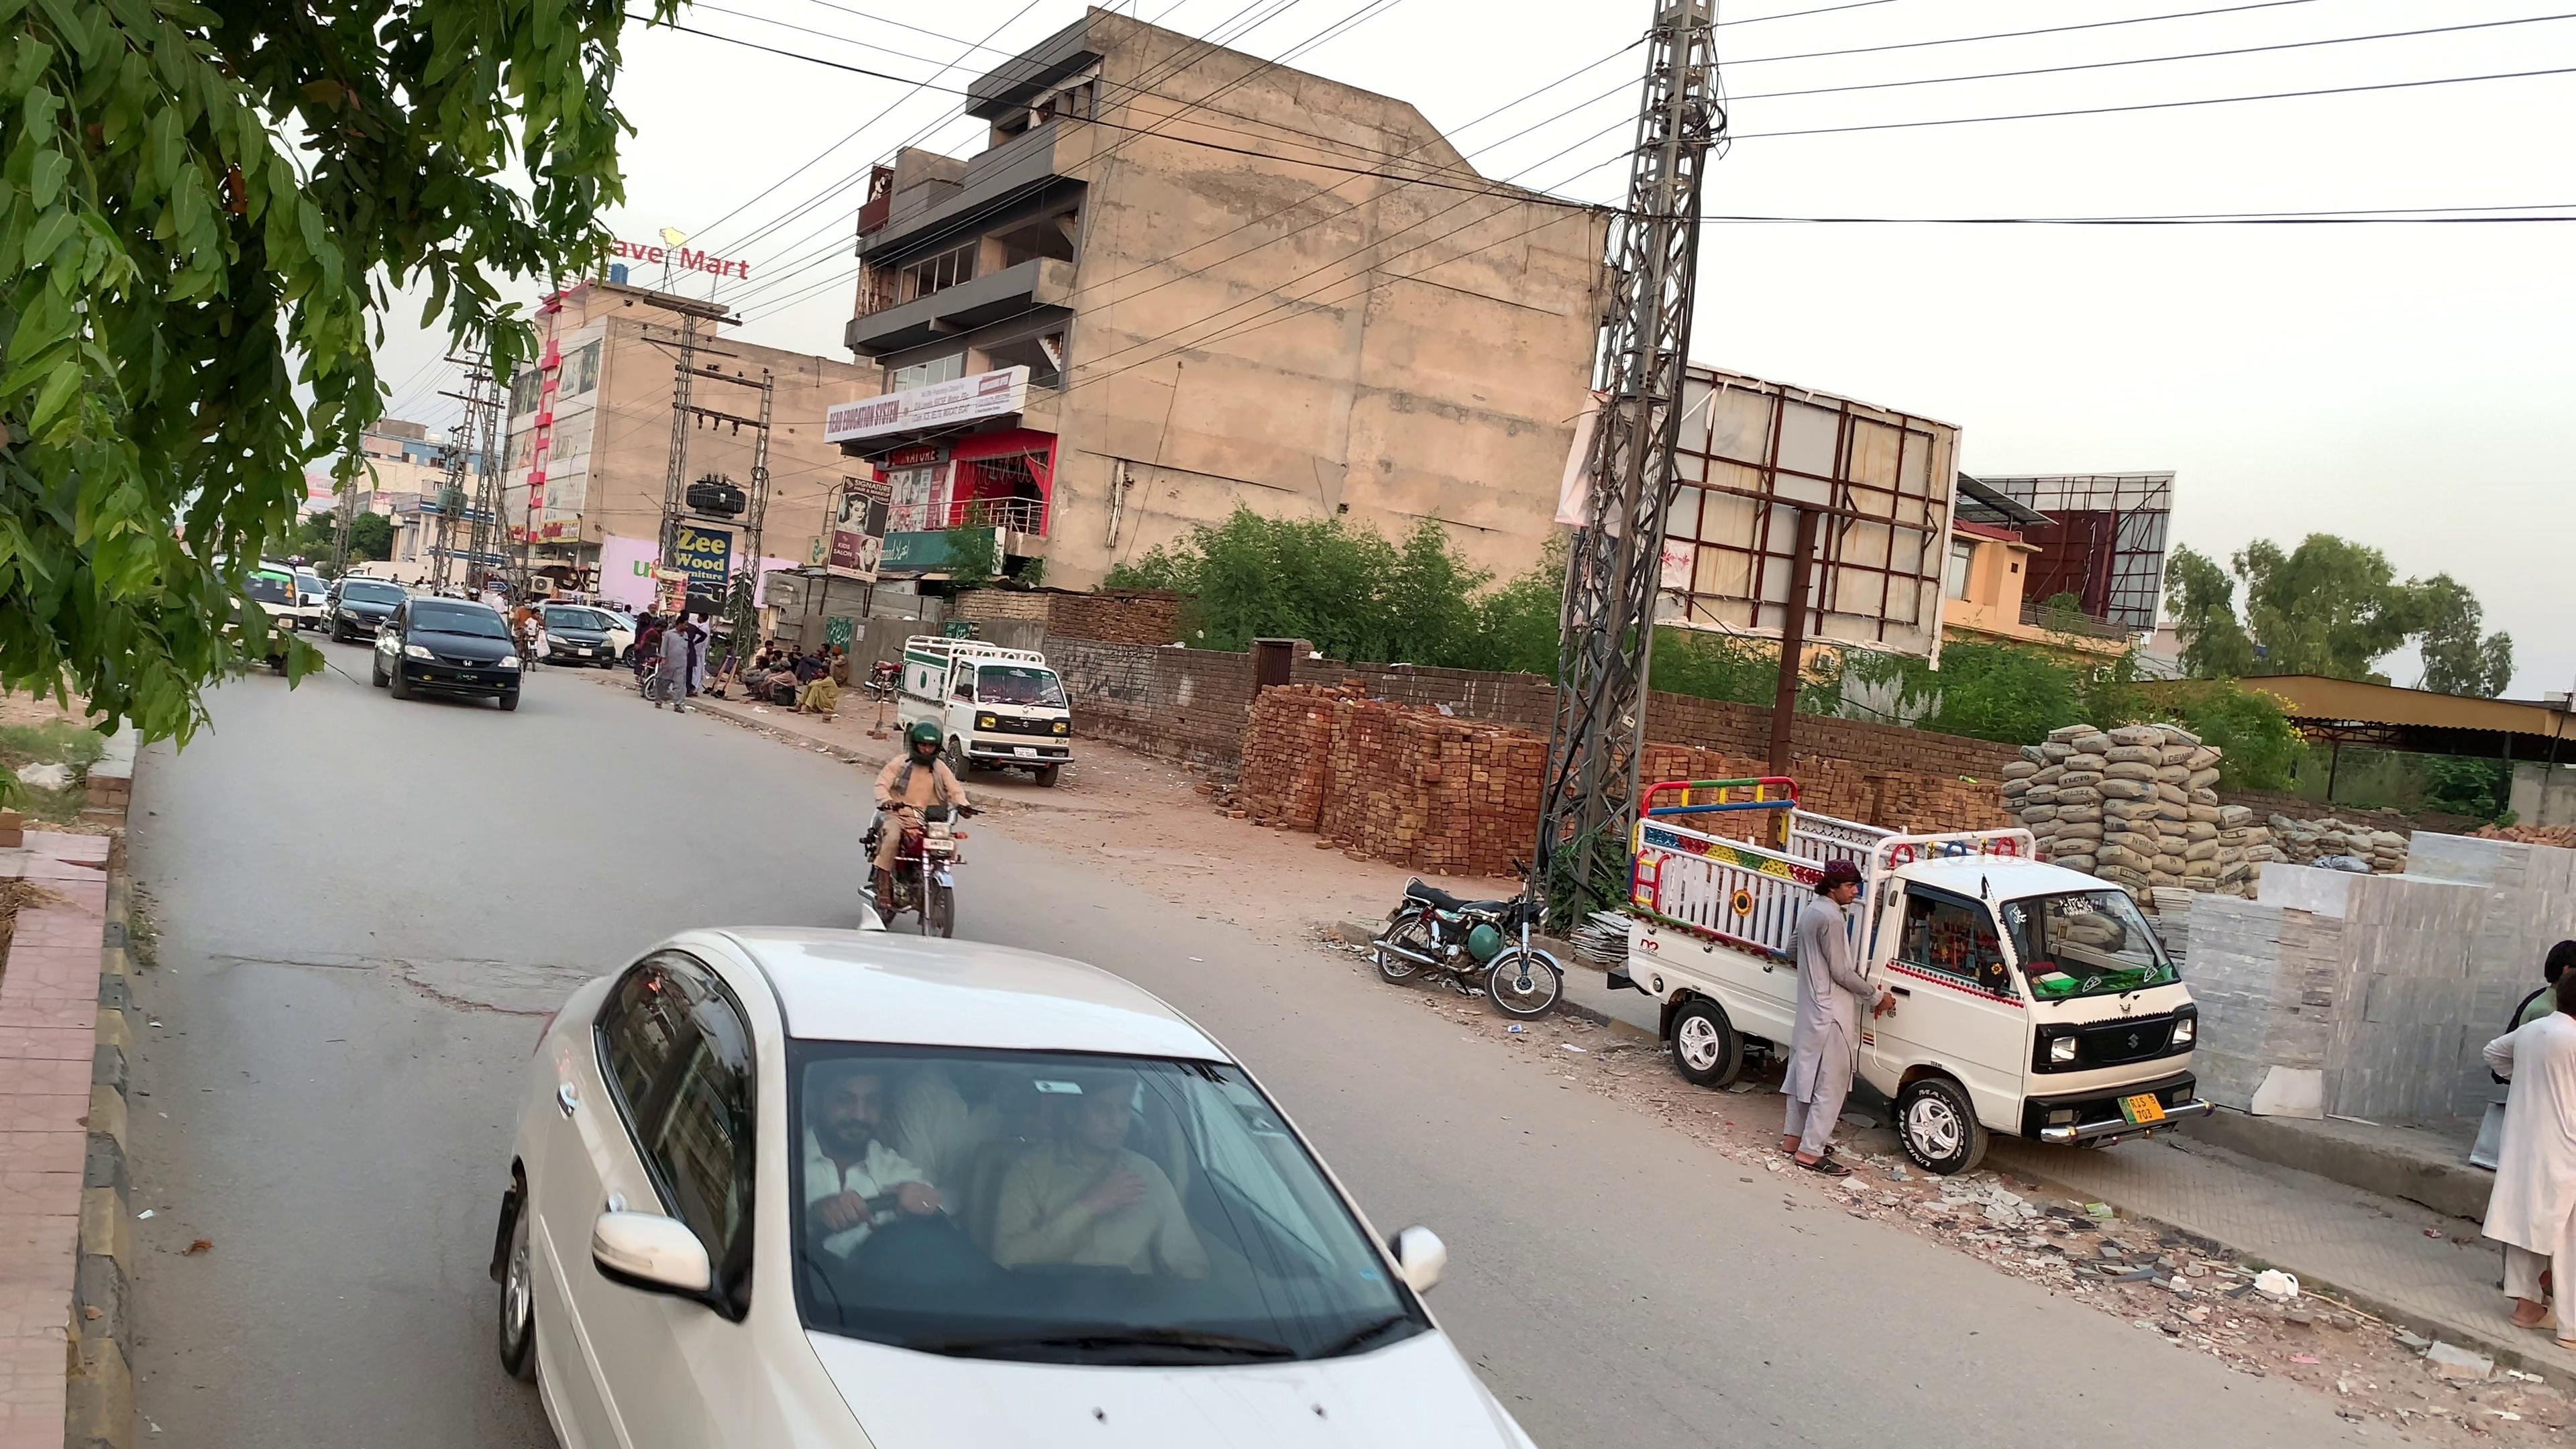windshield: (782, 1003, 1449, 1366)
